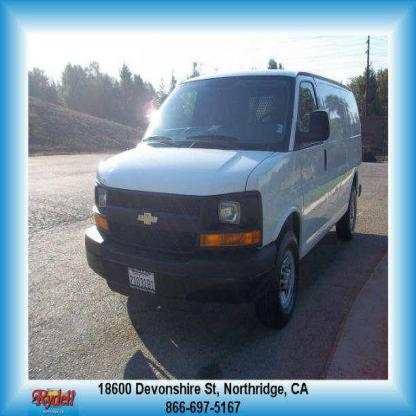Vehicle: (83, 68, 365, 332)
